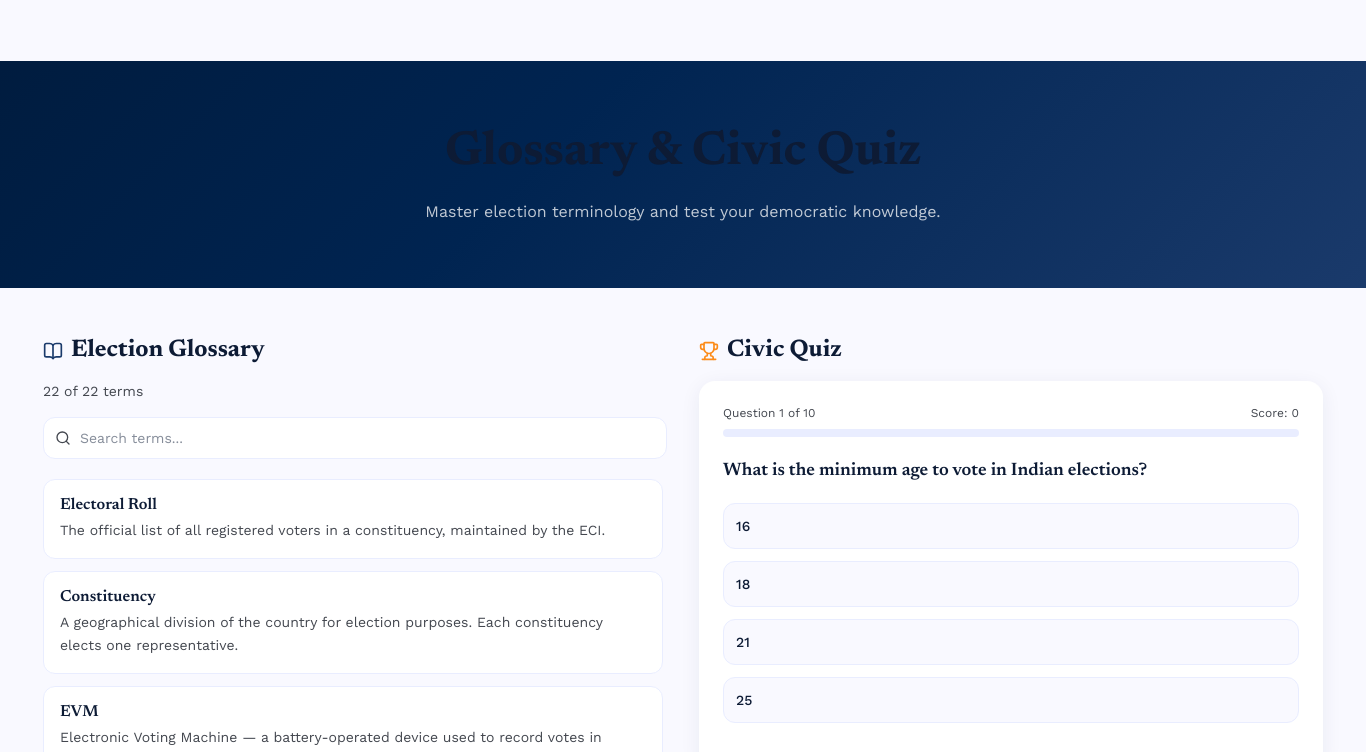
GlossaryQuiz Page › allows answering a quiz question and proceeding to next
The width and height of the screenshot is (1366, 752).
expect the heading "What is the minimum age to vote in Indian elections?" is shown: met, box x1=723 y1=462 x2=1147 y2=480
# Select an option (index 1 is 18)
Click the button "18": (743, 584) x1=723 y1=561 x2=1299 y2=607
(page scrolled)
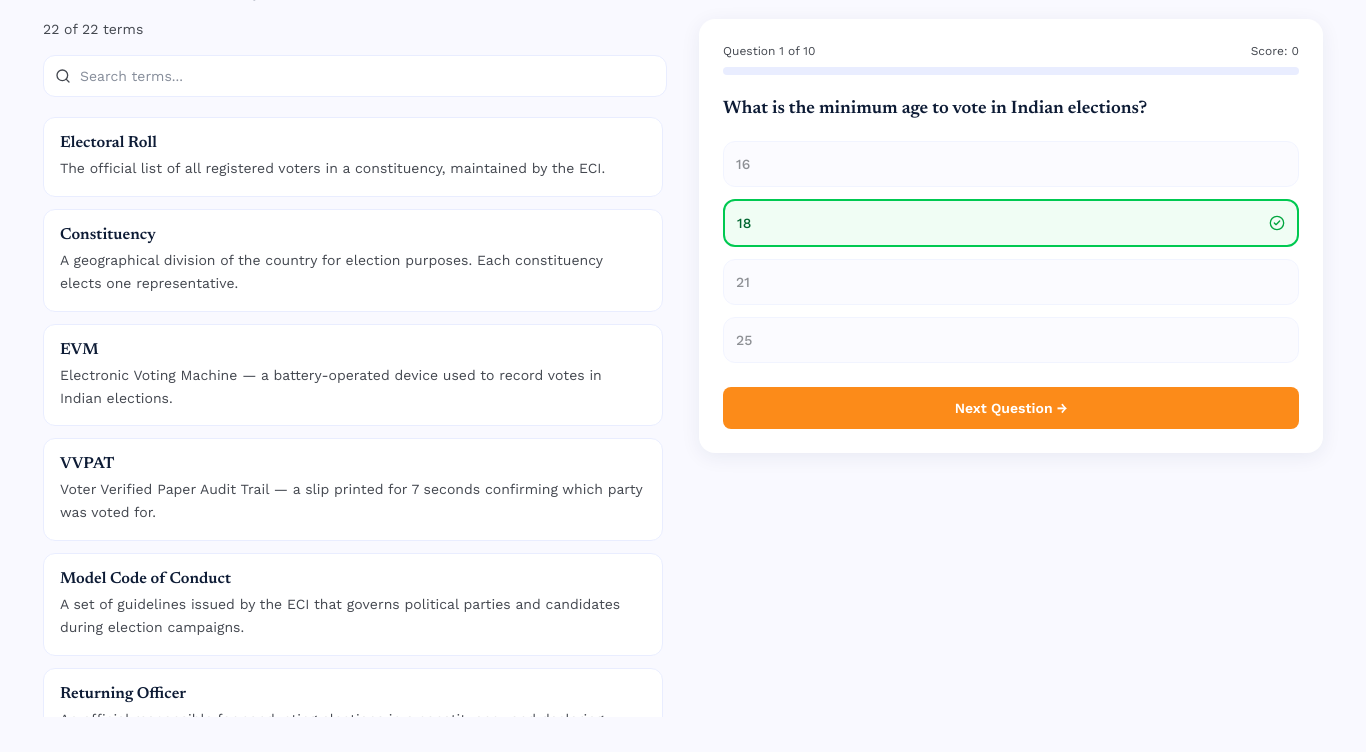
# Should show "Next Question" or "See Results" button
Click the button "Next Question →": (1011, 408) x1=723 y1=387 x2=1299 y2=429
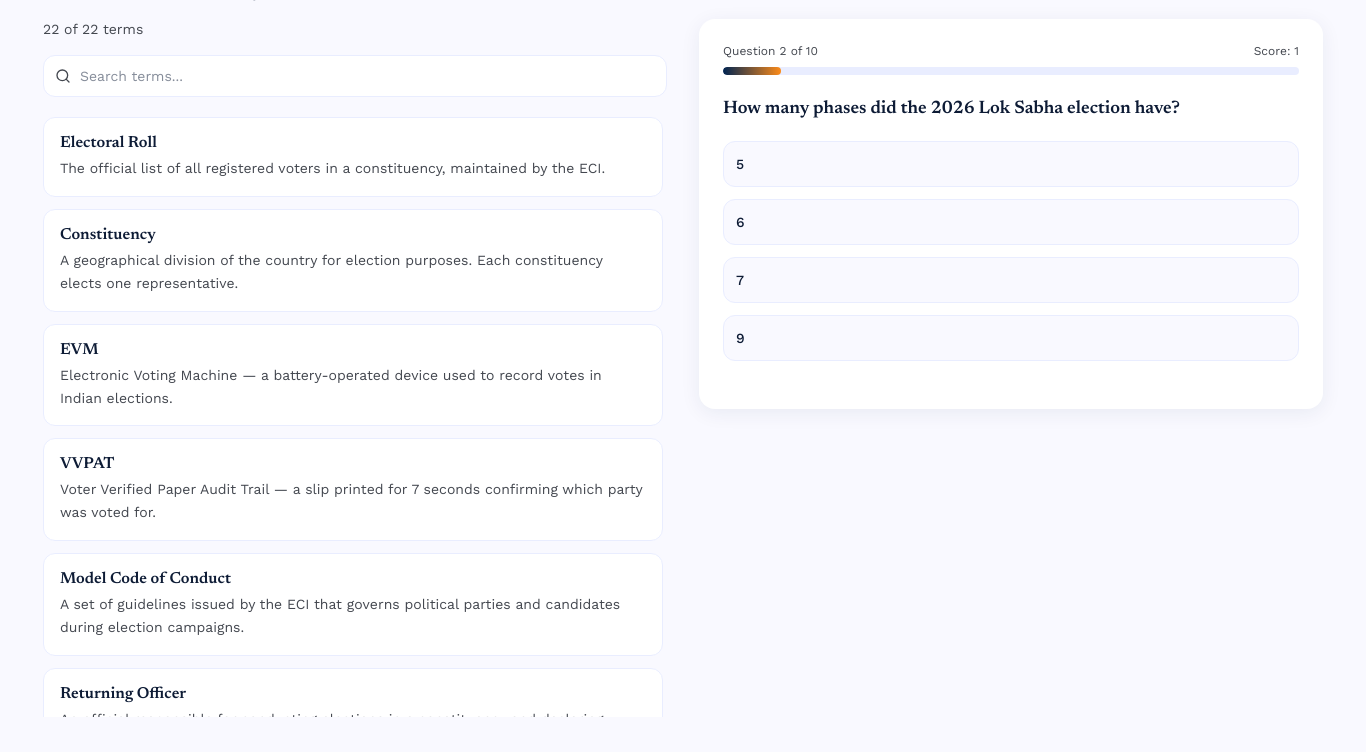
expect the heading "How many phases did the 2026 Lok Sabha election have?" is shown: met, box x1=723 y1=100 x2=1180 y2=118
